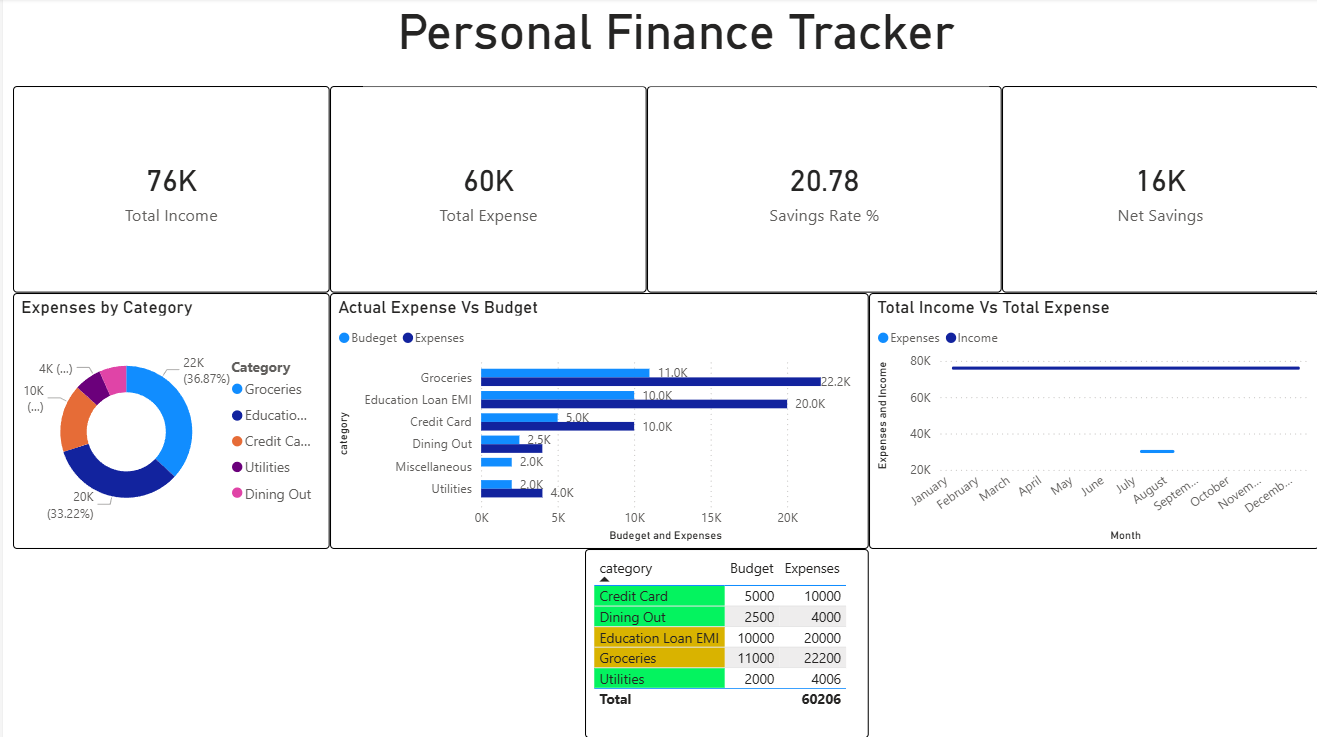

The dashboard page shown, as its layout file describes it:
{"tool":"powerbi","page":{"name":"Page 1","canvas":[1280,720],"ordinal":0},"visuals":[{"type":"card","fields":{"Values":["Sum(income.amount)"]},"box":[9.7,85.6,308.3,201.3],"z":0},{"type":"card","fields":{"Values":["Sum(expenses.amount)"]},"box":[318.1,85.6,308.3,201.3],"z":1000},{"type":"card","fields":{"Values":["budget.Savings Rate %"]},"box":[626.4,85.6,345.3,201.3],"z":2000},{"type":"card","fields":{"Values":["budget.Net Savings"]},"box":[971.7,85.6,308.3,201.3],"z":3000},{"type":"donutChart","fields":{"Category":["expenses.category"],"Y":["Sum(expenses.amount)"]},"box":[9.7,286.9,308.3,249],"z":4000},{"type":"lineChart","title":"Total Income Vs Total Expense","fields":{"Category":["expenses.date.Variation.Date Hierarchy.Month"],"Y":["Sum(expenses.amount)","Sum(income.amount)"]},"box":[842.3,286.9,437.7,249],"z":5000},{"type":"clusteredBarChart","title":"Actual Expense Vs Budget","fields":{"Category":["budget.category"],"Y":["Sum(budget.planned_amount)","Sum(expenses.amount)"]},"box":[318.1,286.9,524.3,249],"z":6000},{"type":"tableEx","fields":{"Values":["budget.category","budget.planned_amount","Sum(expenses.amount)"]},"box":[566.1,535.9,276.2,183.8],"z":7000},{"type":"textbox","box":[10,536,308,184],"z":8000},{"type":"textbox","box":[350.2,0,608.9,85.6],"z":8001}]}

Visuals, with their boxes in screenshot pixels (x1, y1, x2, y2), scaled from the page's 1280x720 canvas onto the 1317x737 screenshot:
card - Sum(income.amount): box=[10, 88, 327, 294]
card - Sum(expenses.amount): box=[327, 88, 645, 294]
card - budget.Savings Rate %: box=[645, 88, 1000, 294]
card - budget.Net Savings: box=[1000, 88, 1316, 294]
donutChart - expenses.category x Sum(expenses.amount): box=[10, 294, 327, 549]
"Total Income Vs Total Expense" lineChart: box=[867, 294, 1316, 549]
"Actual Expense Vs Budget" clusteredBarChart: box=[327, 294, 867, 549]
tableEx - budget.category x budget.planned_amount: box=[582, 549, 867, 736]
textbox: box=[10, 549, 327, 736]
textbox: box=[360, 0, 987, 88]
